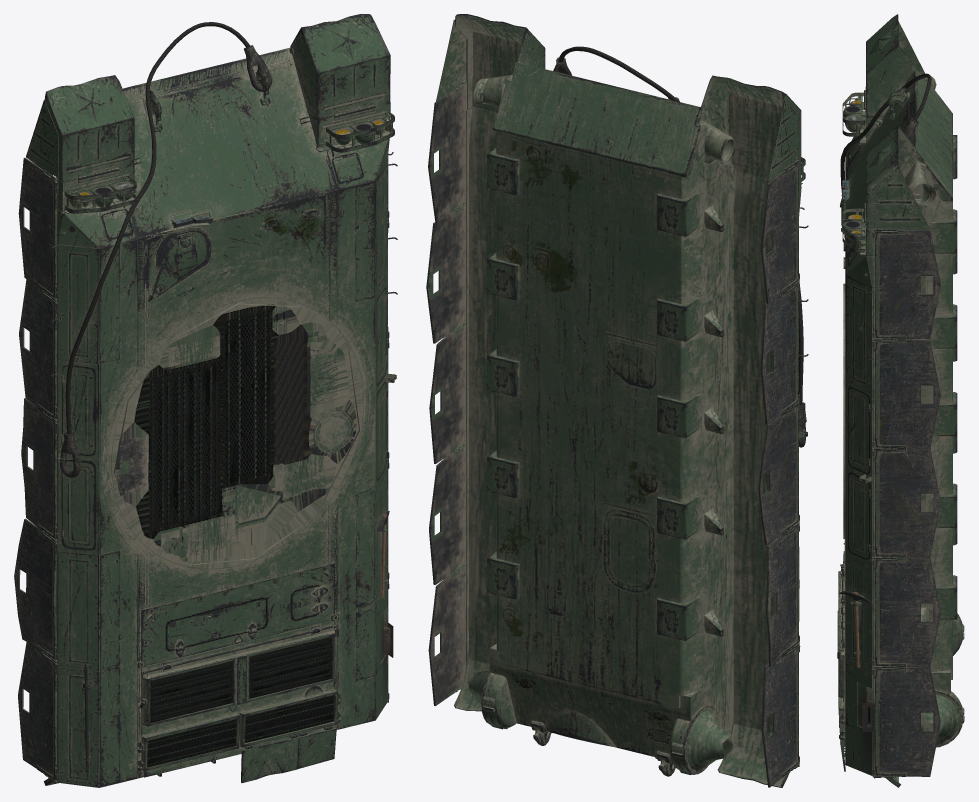
File: Hull.glb
3 views of the same model, side by side, from view 1: azimuth 30°, elevation 25°; view 2: azimuth 150°, elevation 25°; view 3: azimuth 270°, elevation 25° (orthographic). The views are drawn at different scales.
Visible parts, largest first — view 1: set_0_group_0; view 2: set_0_group_0; view 3: set_0_group_0.
Boxes of the visible parts, x1,y1,x2,y2 form: set_0_group_0: (14,14,397,787); set_0_group_0: (426,14,808,787); set_0_group_0: (837,14,964,787).
Size of the model in its own units: 3.45 by 6.9 by 1.21.
Materials: 1 (1 with a texture image).
